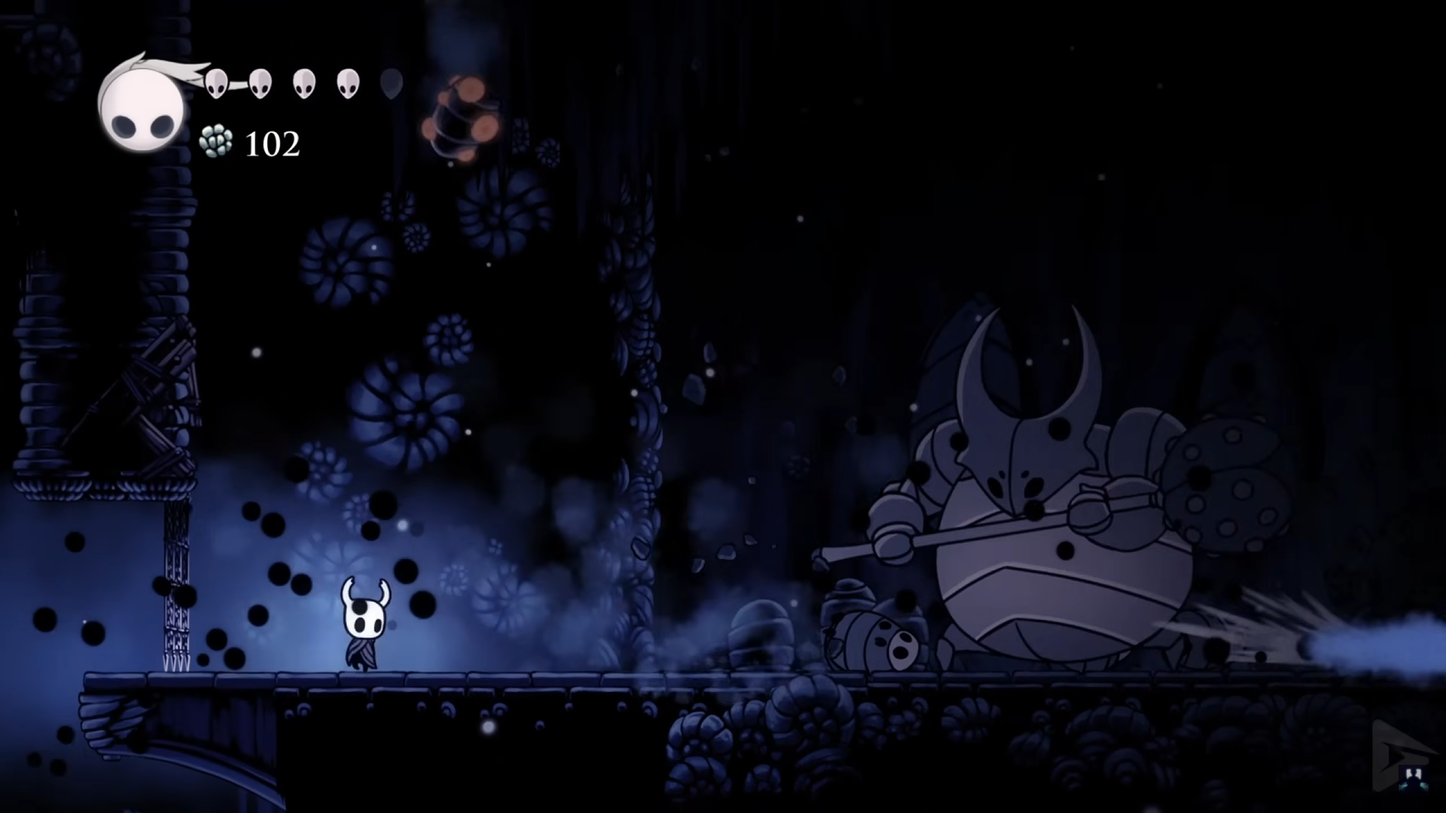HK: (331, 575, 395, 674)
